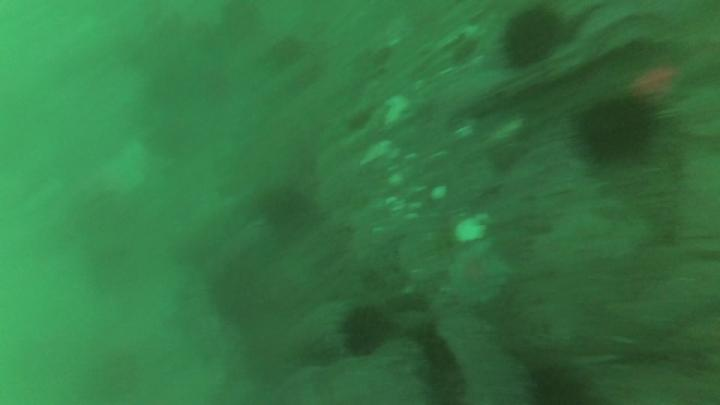echinus: (576, 97, 653, 161), (506, 11, 565, 63), (341, 311, 388, 352), (262, 189, 308, 230), (532, 373, 579, 405)
